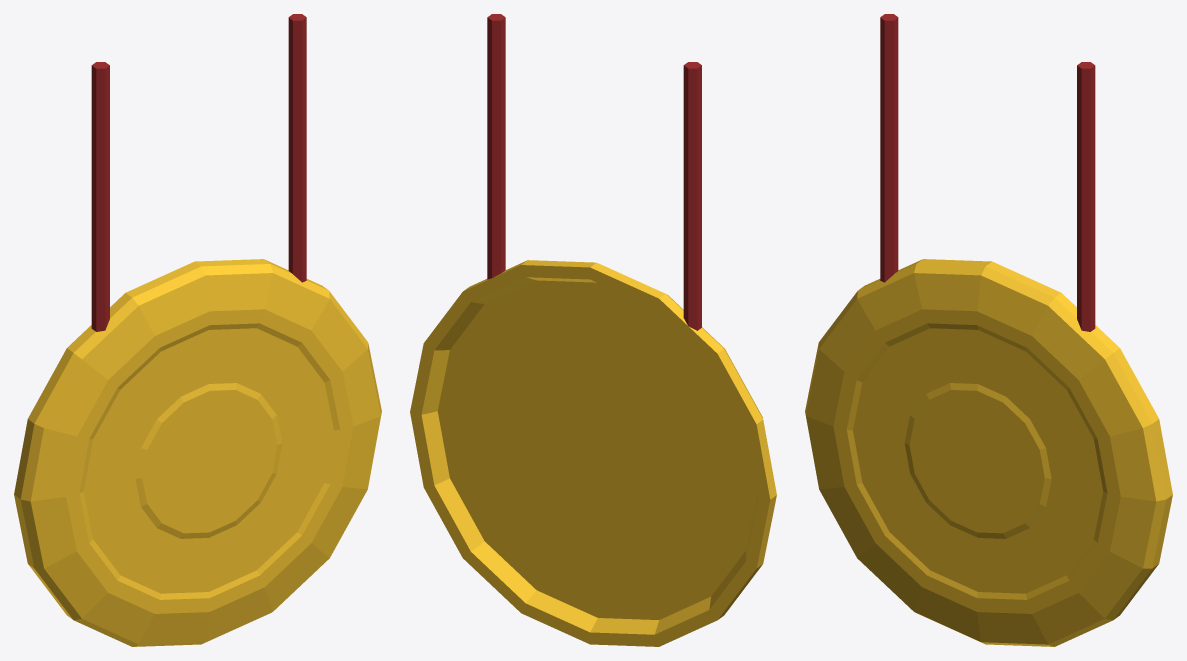
File: Asian_Prop_Gong_Hanging_01.FBX
3 views of the same model, side by side, from view 1: azimuth 30°, elevation 25°; view 2: azimuth 150°, elevation 25°; view 3: azimuth 330°, elevation 25° (orthographic).
Visible parts, largest first — view 1: Asian_Prop_Gong_Hanging_01; view 2: Asian_Prop_Gong_Hanging_01; view 3: Asian_Prop_Gong_Hanging_01.
Boxes of the visible parts, left/top/right/bottom form: Asian_Prop_Gong_Hanging_01: left=14, top=14, right=381, bottom=646; Asian_Prop_Gong_Hanging_01: left=410, top=14, right=776, bottom=646; Asian_Prop_Gong_Hanging_01: left=805, top=14, right=1172, bottom=646.
Size of the model in its own units: 1498 by 2383 by 109.
